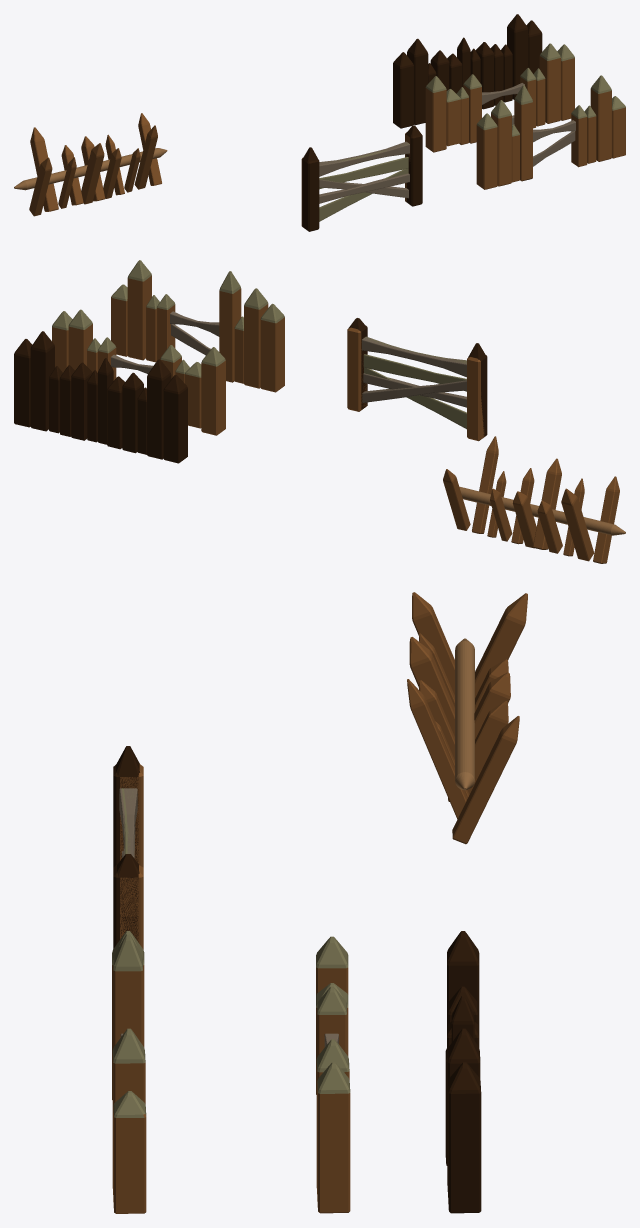
File: fence3.fbx
3 renders of one model, top to bottom at view 1: azimuth 30°, elevation 25°; view 2: azimuth 150°, elevation 25°; view 3: azimuth 270°, elevation 25°, orthographic. The views are drawn at different scales.
Parts seen in each view (by area): view 1: Cube.012, Cube.024, Cube.033, Cube.042, Cube.002, Cube.001, Cube.003, Cylinder, Cube.010, Cube.005, Cube, Cube.011; view 2: Cube.024, Cube.012, Cube.042, Cube.033, Cube.004, Cube.005, Cube.001, Cylinder, Cube, Cube.010, Cube.003; view 3: Cube.042, Cube.024, Cube.012, Cube.033, Cylinder, Cube.004, Cube, Cube.002.
Part boxes in pixels (x1,y1,x2,y2): Cube.012: (476, 75, 625, 189); Cube.024: (393, 14, 542, 128); Cube.033: (425, 43, 574, 152); Cube.042: (29, 113, 161, 216); Cube.002: (302, 134, 422, 231); Cube.001: (319, 143, 408, 221); Cube.003: (319, 142, 409, 203); Cylinder: (14, 148, 167, 190); Cube.010: (533, 120, 575, 166); Cube.005: (319, 141, 408, 198); Cube: (302, 125, 421, 229); Cube.011: (482, 83, 524, 124); Cube.024: (14, 331, 187, 463); Cube.012: (111, 260, 284, 392); Cube.042: (443, 436, 619, 563); Cube.033: (52, 309, 225, 435); Cube.004: (347, 327, 484, 441); Cube.005: (362, 337, 466, 402); Cube.001: (363, 337, 466, 429); Cylinder: (459, 486, 625, 535); Cube: (348, 318, 486, 437); Cube.010: (170, 311, 219, 355); Cube.003: (363, 336, 466, 407); Cube.042: (407, 592, 527, 844); Cube.024: (445, 931, 481, 1213); Cube.012: (112, 931, 146, 1213); Cube.033: (316, 936, 350, 1213); Cylinder: (455, 638, 474, 790); Cube.004: (120, 764, 143, 949); Cube: (116, 746, 140, 942); Cube.002: (113, 765, 136, 948).
Size of the model in its own units: 1798 by 305 by 618.
